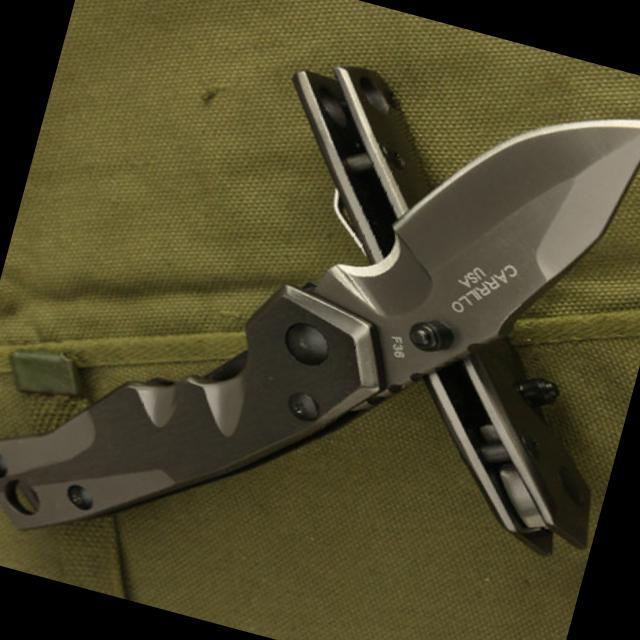knife: (326, 44, 639, 413)
